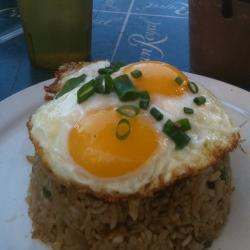omelette: (31, 61, 236, 191)
rice: (28, 154, 237, 250)
